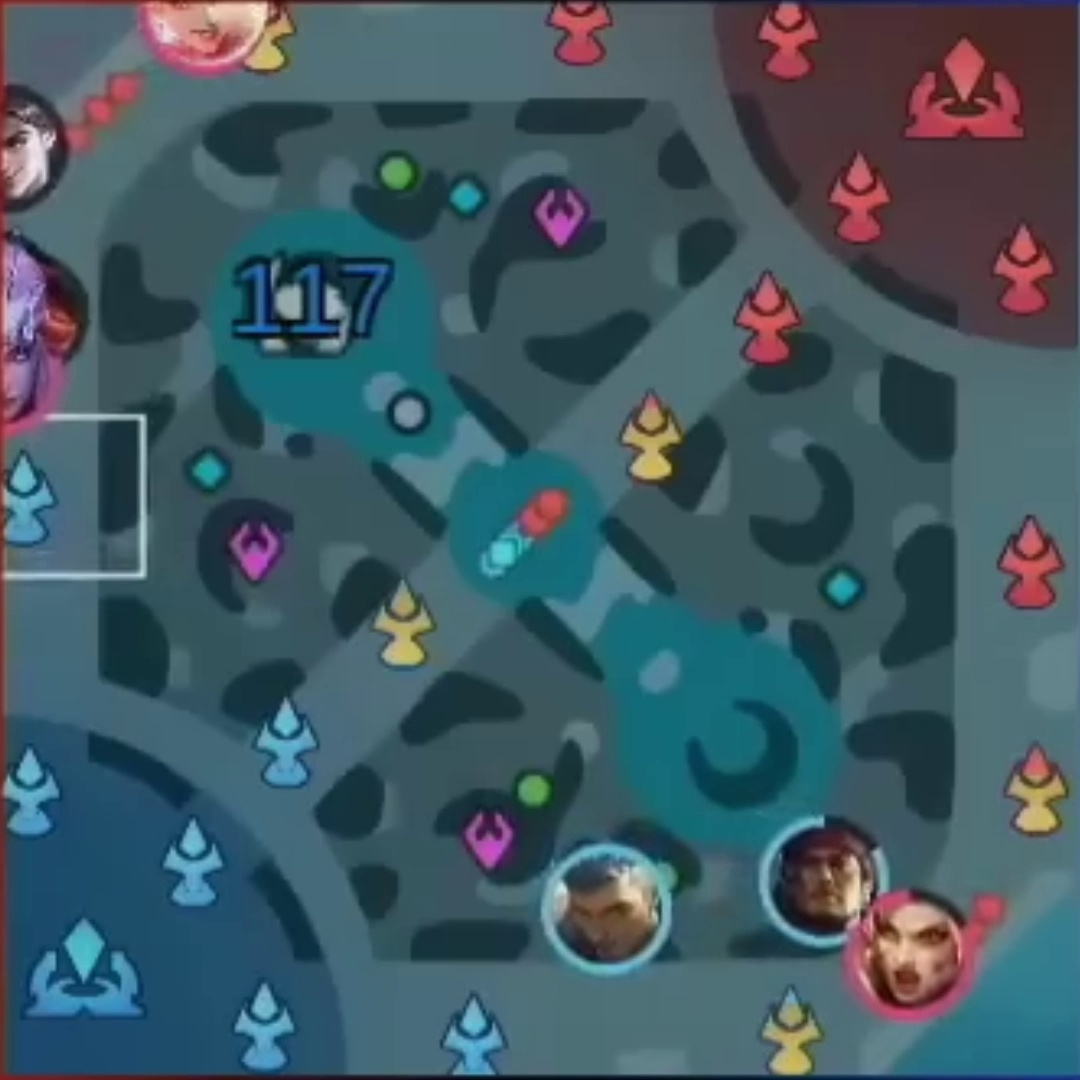Claude: (5, 94, 52, 195)
Fanny: (157, 6, 250, 56)
Fredrinn: (563, 866, 664, 960)
Lapu-Lapu: (779, 830, 866, 921)
Masha: (878, 902, 951, 1007)
